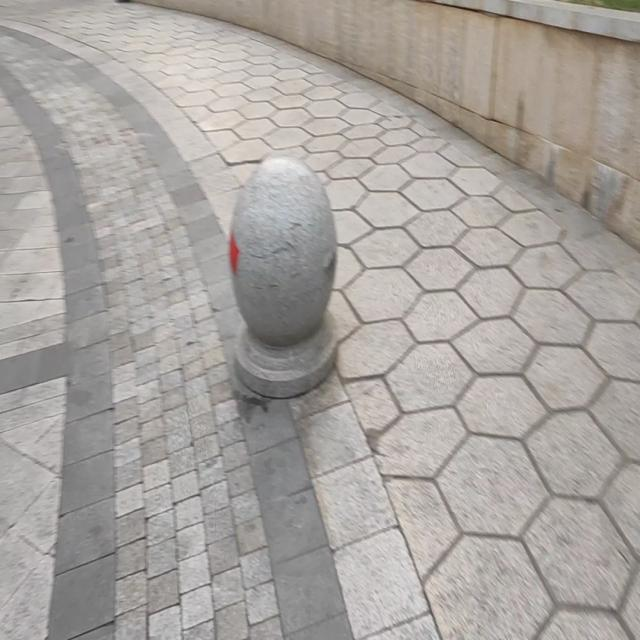spherical_roadblock: (224, 150, 342, 400)
